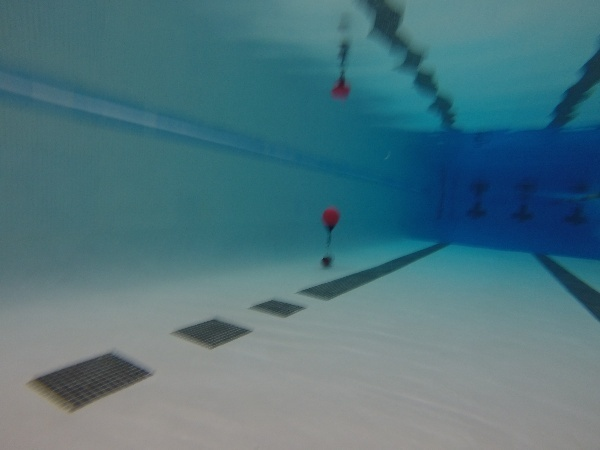buoy_red: (322, 207, 341, 237)
